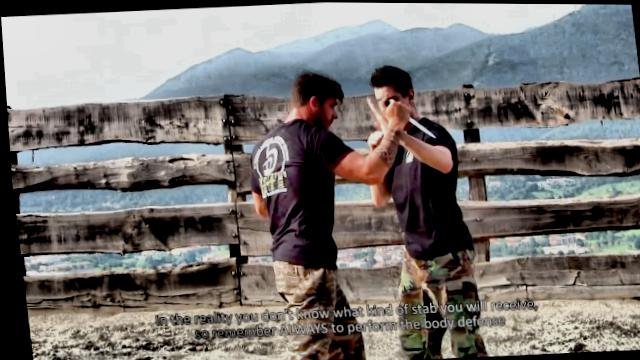knife: (375, 91, 436, 142)
